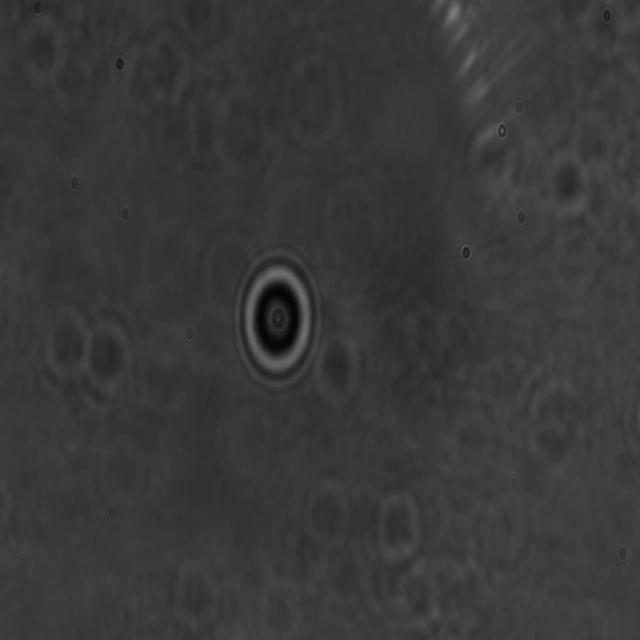LCELL: (230, 244, 326, 396)
